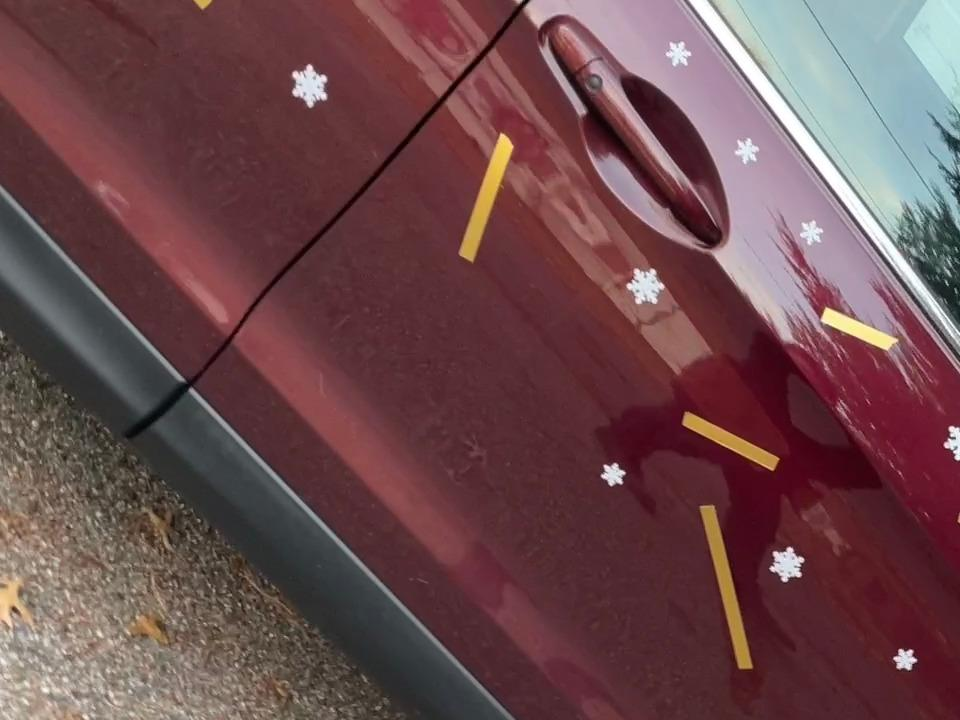dent: (287, 62, 336, 111), (621, 263, 672, 309), (767, 543, 808, 586), (599, 457, 632, 494), (664, 35, 695, 71), (733, 135, 762, 171), (797, 218, 827, 248), (891, 642, 920, 673), (941, 419, 960, 463)
scratch: (695, 501, 760, 678), (455, 129, 514, 265), (682, 405, 786, 478), (820, 304, 901, 359), (955, 500, 960, 536)
